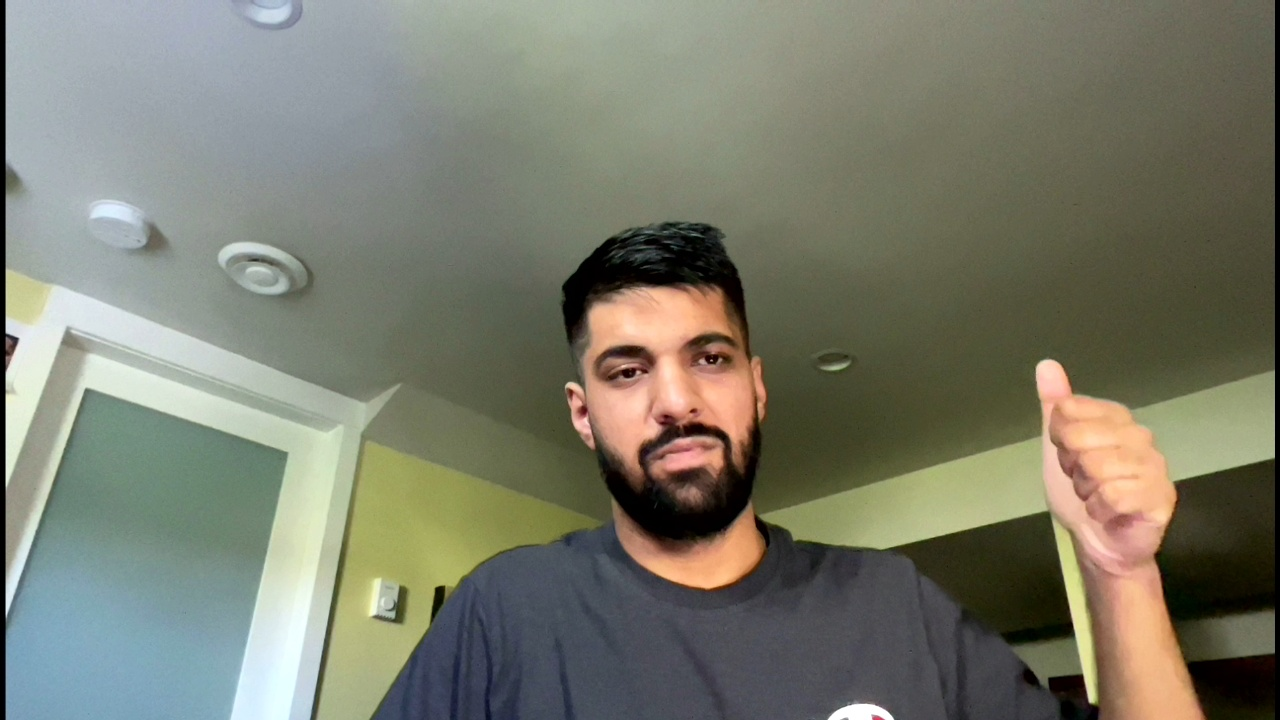Yes: (999, 358, 1198, 563)
